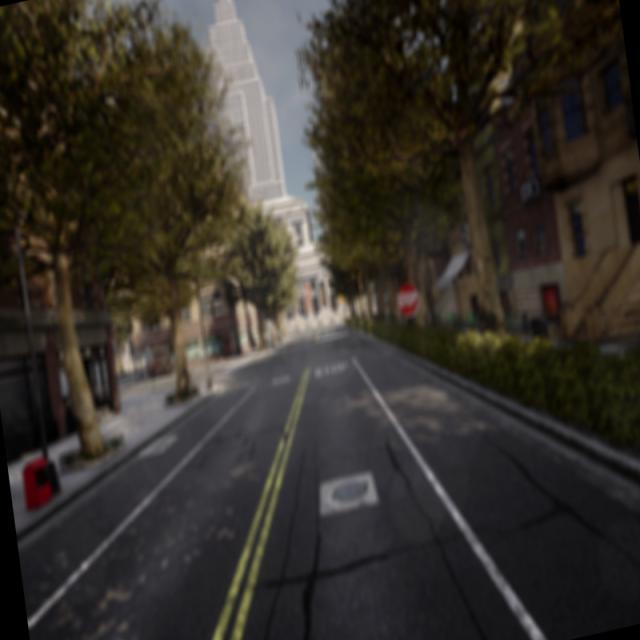stop sign: (394, 277, 422, 320)
